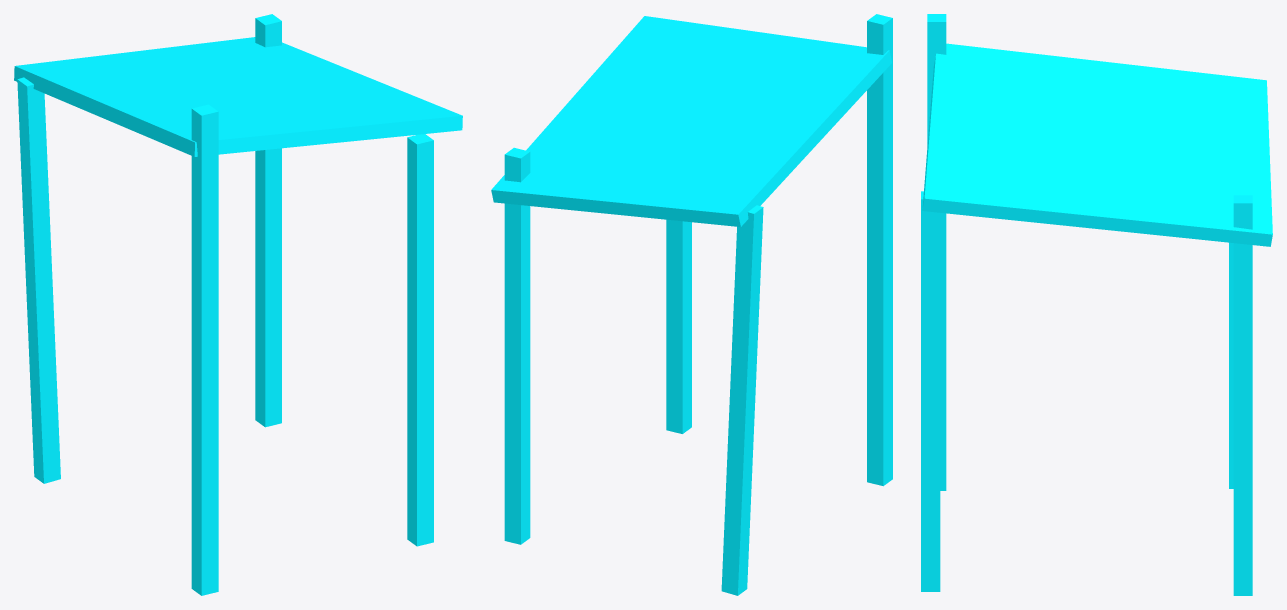
File: SM_Bld_Awning_04_Collision.fbx
3 views of the same model, side by side, from view 1: azimuth 30°, elevation 25°; view 2: azimuth 150°, elevation 25°; view 3: azimuth 270°, elevation 25° (orthographic). The views are drawn at different scales.
Parts seen in each view (by area): view 1: SM_Bld_Awning_04_Collision; view 2: SM_Bld_Awning_04_Collision; view 3: SM_Bld_Awning_04_Collision.
Part boxes in pixels (x1,y1,x2,y2): SM_Bld_Awning_04_Collision: (14,14,462,595); SM_Bld_Awning_04_Collision: (491,14,892,595); SM_Bld_Awning_04_Collision: (921,14,1272,595).
Bounding box in the file's own units: 280 × 460 × 313.
